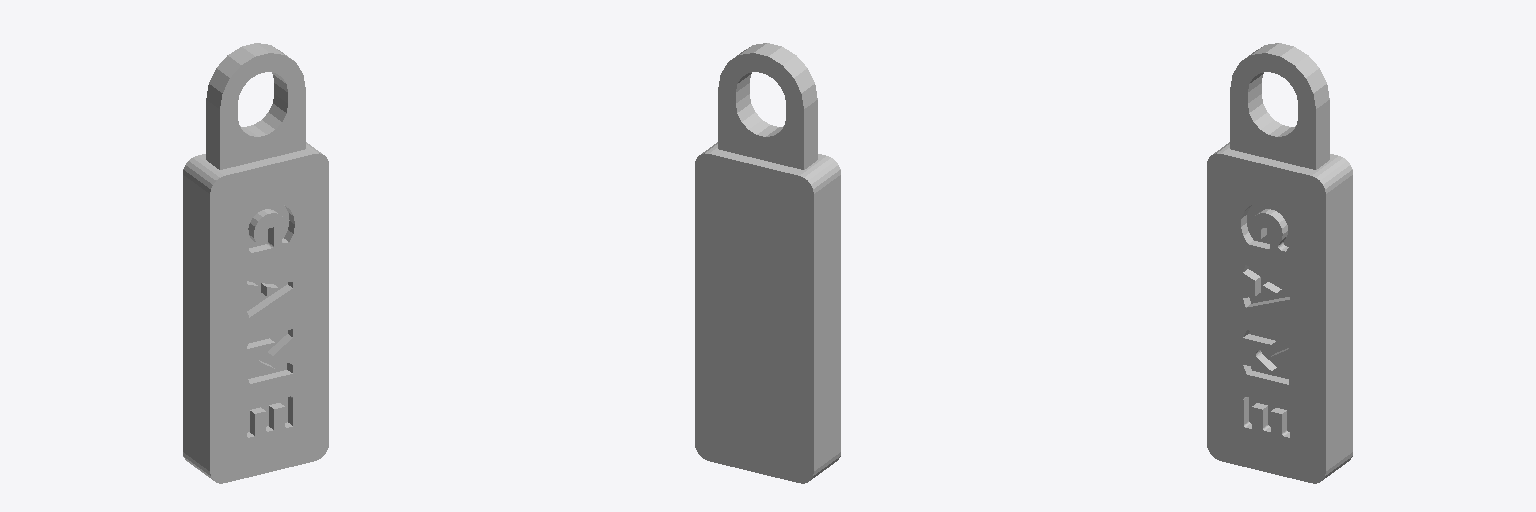
Rendered from GAME_PULLER-Puller3.obj.
The picture shows the model from 3 angles: view 1: azimuth 30°, elevation 25°; view 2: azimuth 150°, elevation 25°; view 3: azimuth 330°, elevation 25°; orthographic projection.
Parts seen in each view (by area): view 1: Body, Body001; view 2: Body, Body001; view 3: Body, Body001.
Boxes of the visible parts, x1=… form: Body: x1=183, y1=142, x2=328, y2=483; Body001: x1=206, y1=43, x2=305, y2=169; Body: x1=695, y1=142, x2=840, y2=483; Body001: x1=718, y1=43, x2=817, y2=169; Body: x1=1207, y1=142, x2=1352, y2=483; Body001: x1=1230, y1=43, x2=1329, y2=169.
Bounding box in the file's own units: 12.5 × 41.32 × 5.